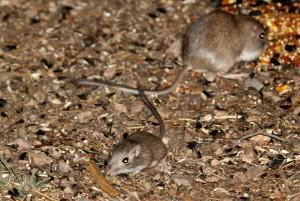rat: (78, 9, 267, 94), (105, 85, 167, 178)
